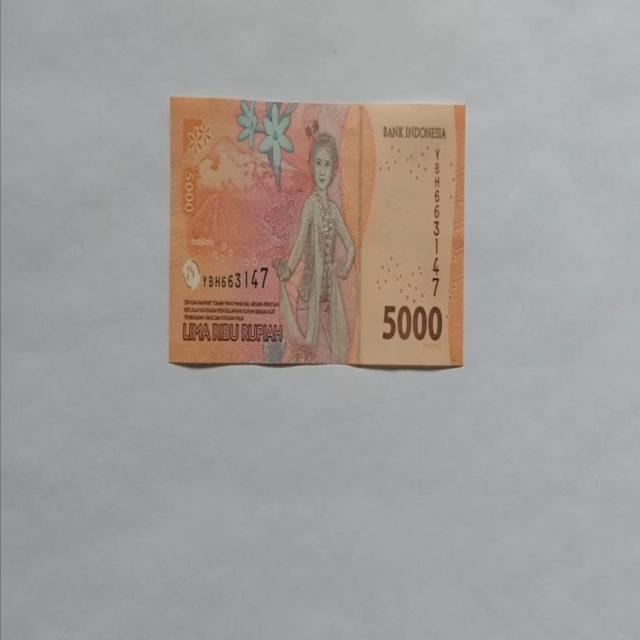lima ribu rupiah: (168, 95, 466, 369), (271, 132, 357, 364)
